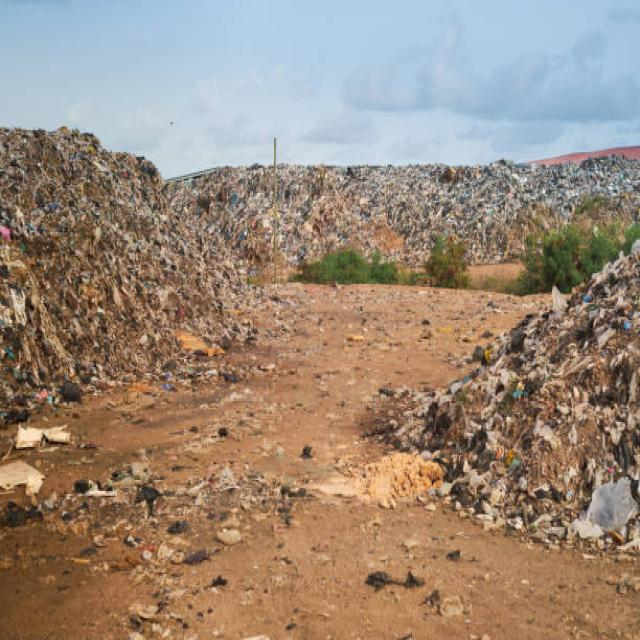cardboard: (169, 322, 226, 359)
plastic: (36, 151, 242, 320), (471, 328, 634, 395)
